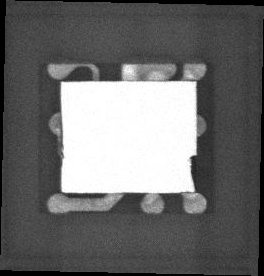DIE_BROKEN: (59, 92, 64, 181), (187, 153, 197, 191)
